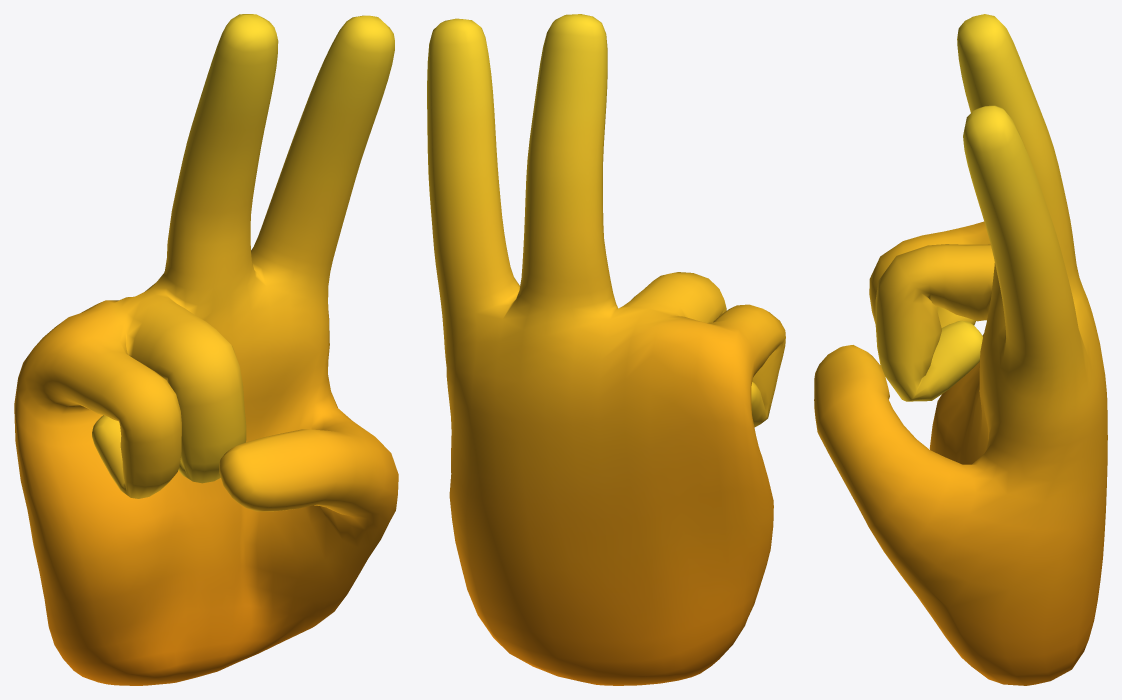
Rendered from victory_hand.glb.
3 renders of one model, left to right at view 1: azimuth 30°, elevation 25°; view 2: azimuth 150°, elevation 25°; view 3: azimuth 270°, elevation 25°, orthographic. The views are drawn at different scales.
Parts seen in each view (by area): view 1: hand.005; view 2: hand.005; view 3: hand.005.
Part boxes in pixels (x1,y1,x2,y2): hand.005: (14, 14, 398, 685); hand.005: (427, 14, 785, 685); hand.005: (814, 14, 1107, 685).
Bounding box in the file's own units: 1.14 × 2.02 × 0.8192.
2 materials, 2 textured.
